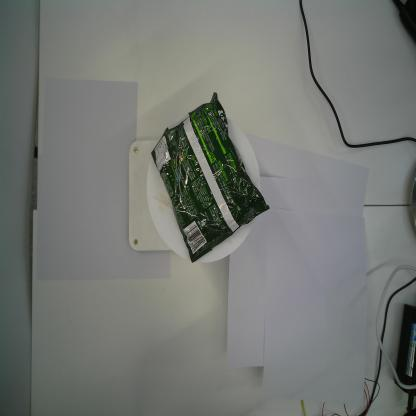Instant Noodles: (151, 91, 270, 263)
